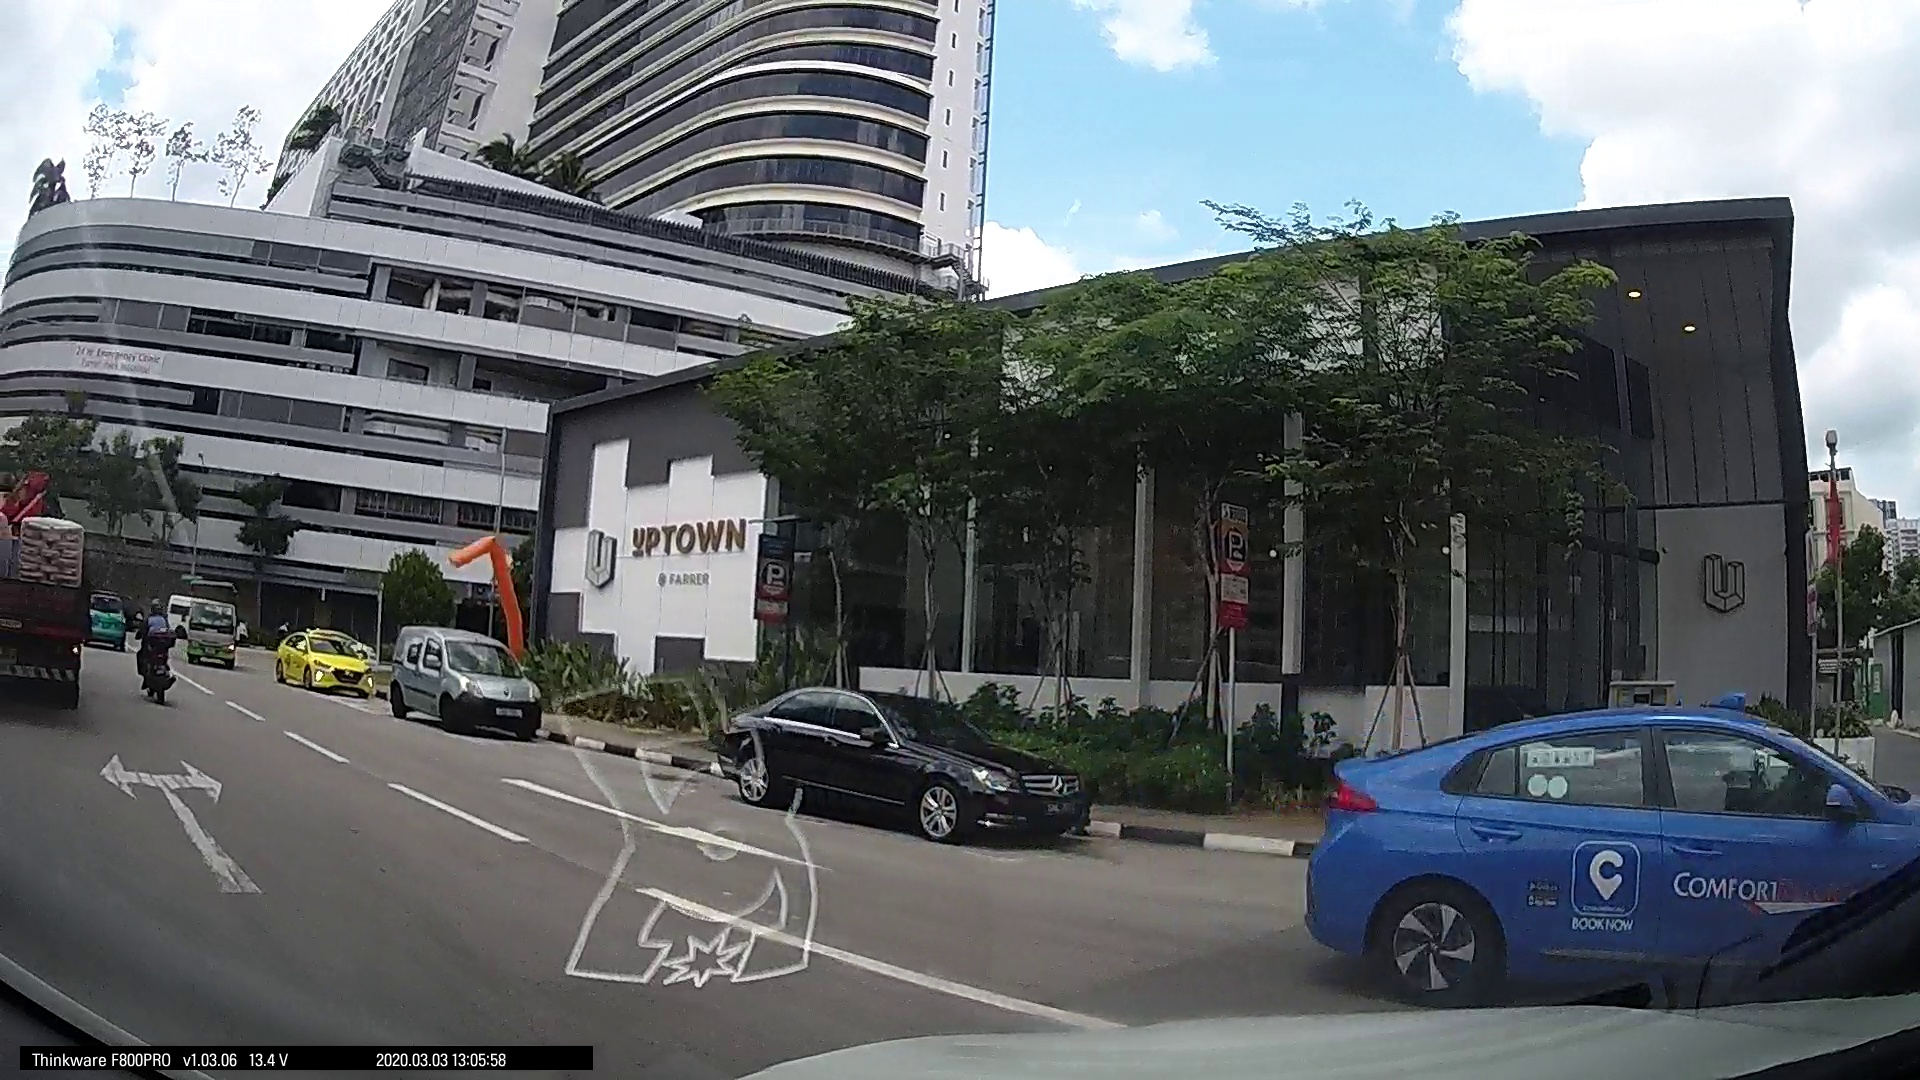Heavy Vehicle: (55, 435, 779, 988), (741, 531, 910, 765), (920, 597, 992, 705), (1207, 632, 1279, 709)
Light Vehicle: (1478, 682, 1668, 798), (1396, 673, 1497, 760), (899, 647, 952, 727)
